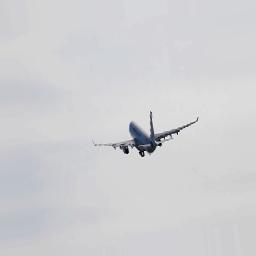Airplane: (91, 110, 200, 157)
